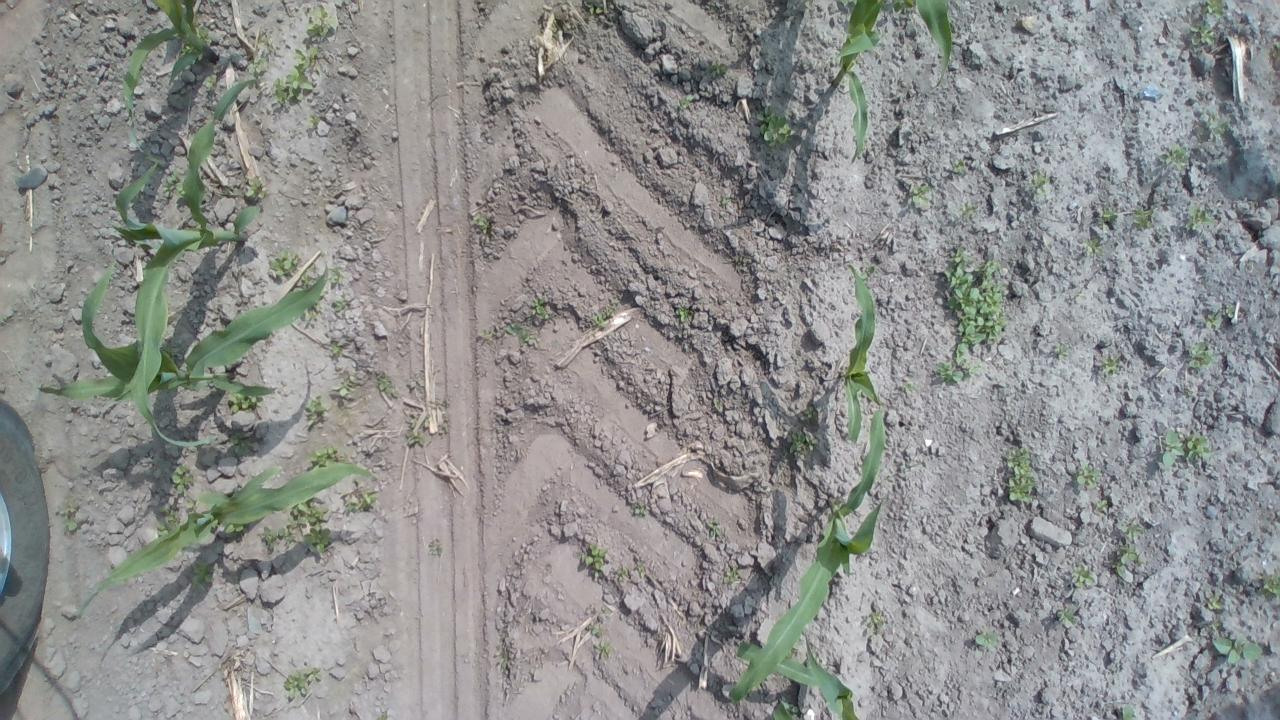Maize: (24, 264, 345, 459), (104, 73, 270, 435), (68, 452, 389, 623), (722, 406, 896, 709), (104, 0, 267, 159), (822, 0, 962, 173), (830, 254, 889, 453), (751, 637, 866, 720)
Weeds: (939, 244, 1006, 348), (1184, 1, 1234, 53), (1002, 445, 1040, 509), (751, 106, 804, 150), (1154, 428, 1212, 468), (285, 44, 319, 108), (1114, 520, 1144, 584), (300, 502, 334, 558), (1212, 632, 1261, 670), (929, 349, 981, 384), (282, 664, 322, 704), (304, 4, 340, 44), (55, 506, 100, 537), (256, 518, 296, 550), (223, 425, 264, 456), (340, 481, 379, 513), (1182, 338, 1221, 369), (583, 294, 622, 324), (267, 247, 302, 280), (304, 443, 346, 470), (1201, 114, 1234, 148), (300, 392, 330, 428), (1177, 202, 1221, 226), (166, 461, 197, 495), (222, 390, 262, 416), (1123, 204, 1161, 231), (1070, 461, 1104, 490), (1070, 558, 1097, 594), (236, 172, 268, 202), (902, 179, 932, 210), (1158, 143, 1190, 172), (970, 627, 1006, 652), (1054, 607, 1086, 635), (158, 170, 186, 202), (787, 428, 818, 456), (187, 562, 218, 590), (374, 369, 400, 402), (1207, 302, 1237, 330), (502, 320, 532, 348), (333, 371, 360, 402), (323, 334, 352, 362), (245, 53, 268, 88), (584, 543, 608, 575), (1096, 349, 1122, 378), (268, 75, 290, 108), (1204, 592, 1232, 616), (1098, 207, 1123, 233), (472, 210, 497, 236), (528, 297, 552, 323), (676, 88, 704, 110), (704, 59, 728, 84), (1078, 236, 1104, 259), (406, 421, 426, 450), (1258, 571, 1280, 597), (960, 197, 982, 221), (802, 402, 824, 426), (1032, 172, 1052, 198), (721, 567, 744, 588), (948, 156, 968, 180), (1109, 705, 1140, 720), (326, 263, 346, 286), (588, 641, 612, 660), (868, 609, 886, 634), (706, 518, 724, 543), (1048, 341, 1069, 362), (330, 296, 350, 318), (587, 624, 612, 641), (673, 304, 694, 324), (611, 562, 630, 584), (632, 500, 652, 520), (426, 540, 445, 561), (202, 74, 216, 100), (1092, 496, 1110, 515), (632, 559, 649, 578), (720, 193, 734, 211), (307, 112, 321, 128)
